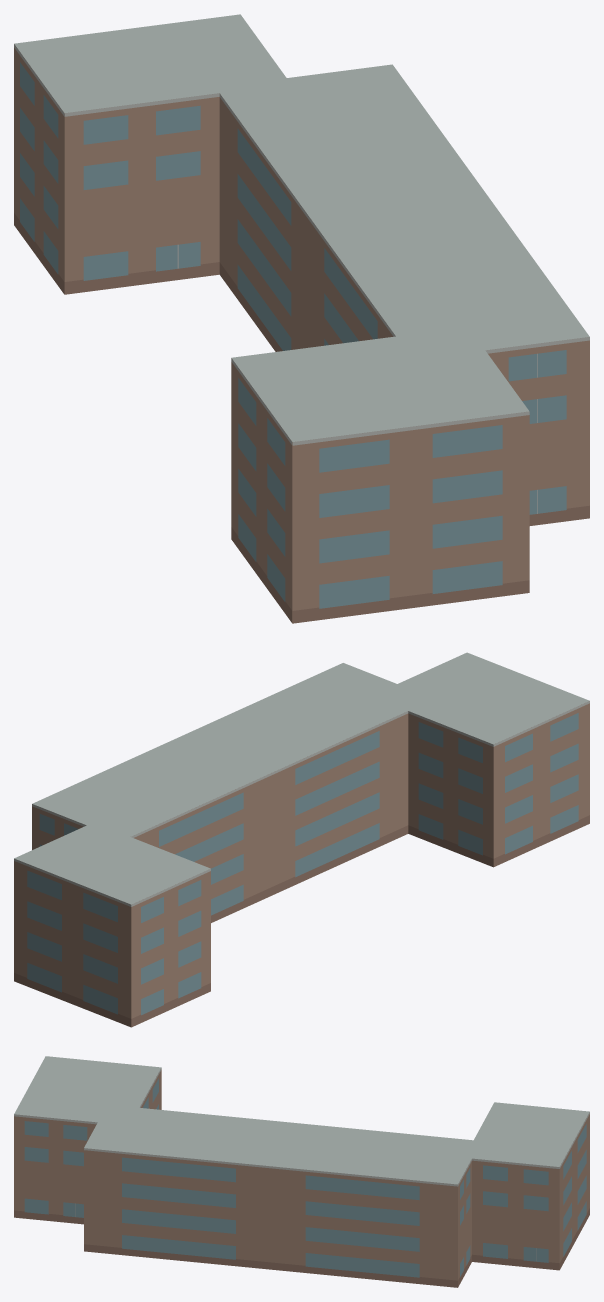
Rendered from residential-d356a9b4-099d-4a5c-945b-f96044d3049b.glb.
3 views of the same model, one above another, from view 1: azimuth 30°, elevation 25°; view 2: azimuth 150°, elevation 25°; view 3: azimuth 270°, elevation 25° (orthographic). The views are drawn at different scales.
Visible parts, largest first — view 1: residential-d356a9b4-099d-4a5c-945b-f96044d3049b.tmp; view 2: residential-d356a9b4-099d-4a5c-945b-f96044d3049b.tmp; view 3: residential-d356a9b4-099d-4a5c-945b-f96044d3049b.tmp.
Part boxes in pixels (left/top/right/bottom): residential-d356a9b4-099d-4a5c-945b-f96044d3049b.tmp: left=14, top=14, right=589, bottom=623; residential-d356a9b4-099d-4a5c-945b-f96044d3049b.tmp: left=14, top=652, right=589, bottom=1027; residential-d356a9b4-099d-4a5c-945b-f96044d3049b.tmp: left=14, top=1056, right=589, bottom=1287.
Bounding box in the file's own units: 32.52 × 12.2 × 61.63.
